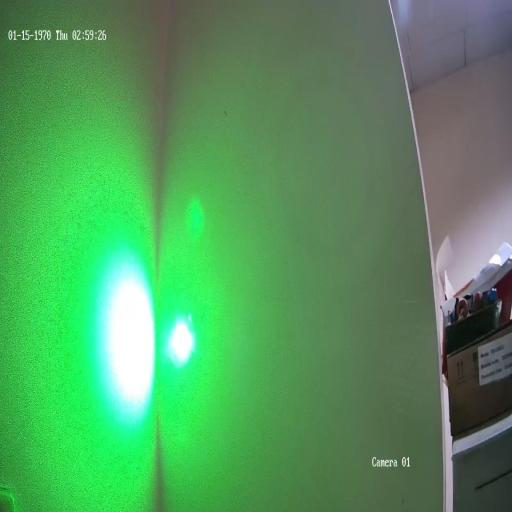laser: (162, 298, 204, 382)
